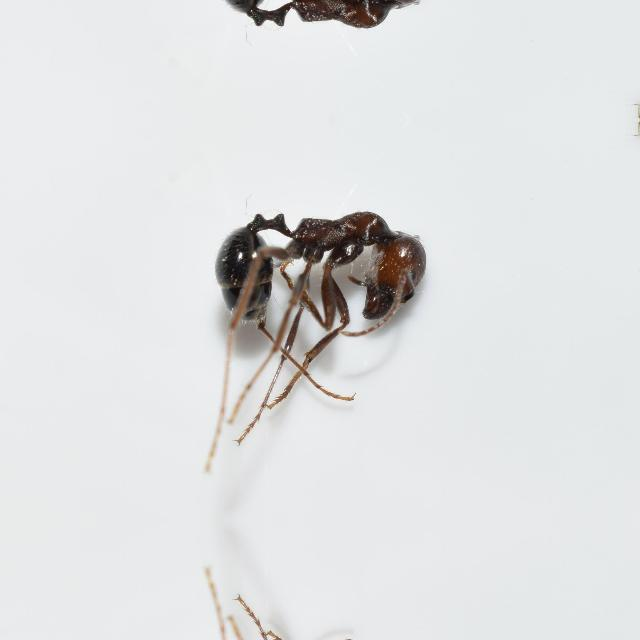Messor: (198, 182, 432, 364), (198, 0, 431, 56)
